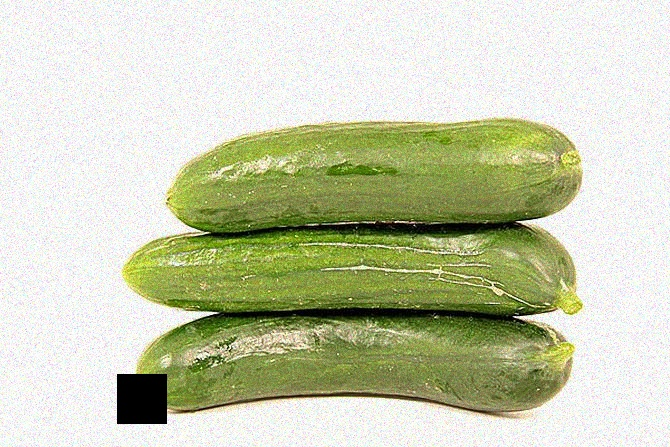cucumber: (170, 109, 583, 231), (136, 318, 578, 415), (119, 224, 574, 312)
